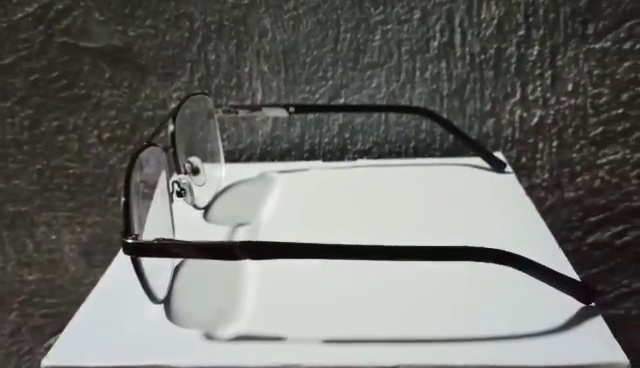glasses: (118, 88, 608, 320)
